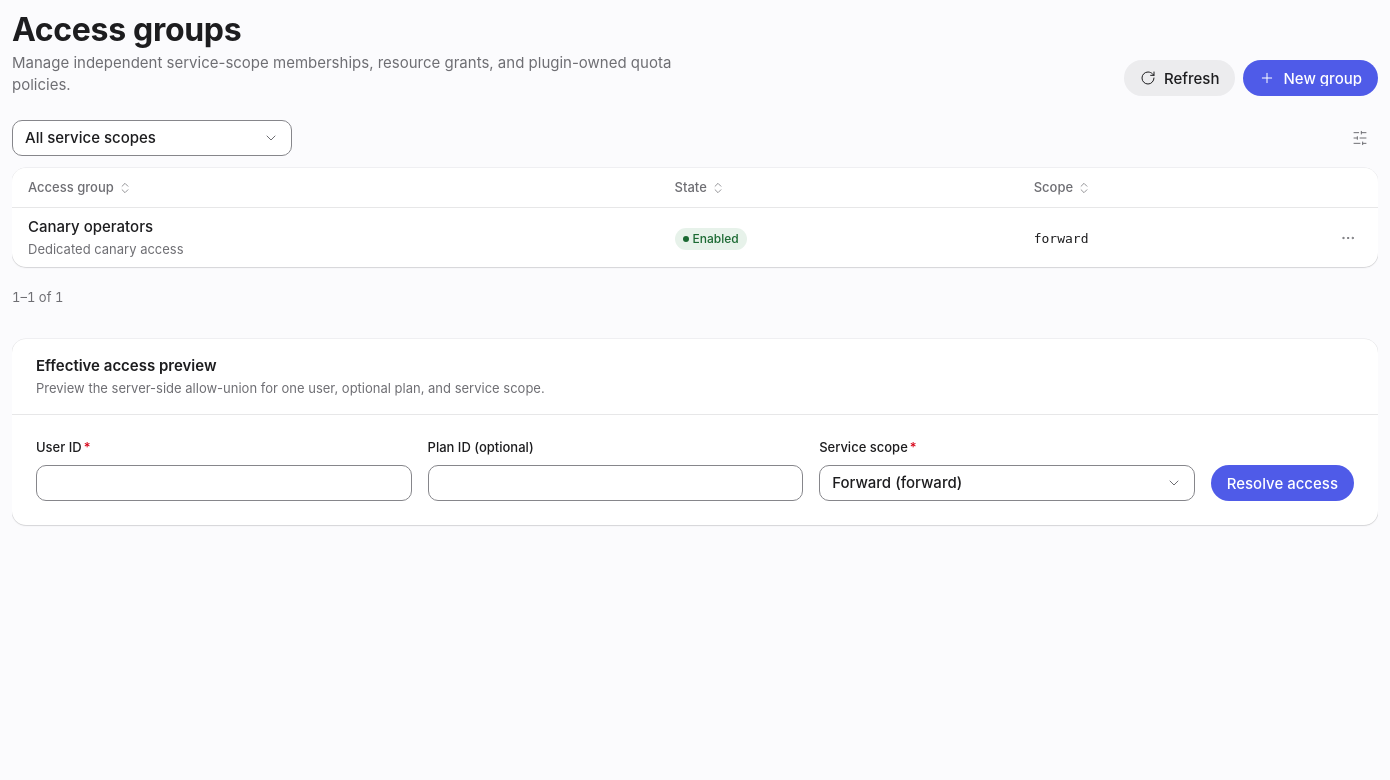
Test: AccessGroups.vue › uses the server-side allow-union resolver instead of recomputing permissions in the browser
Type "11" into the number field with id "access-resolve-user" at (224, 483), box [37,466,411,500]
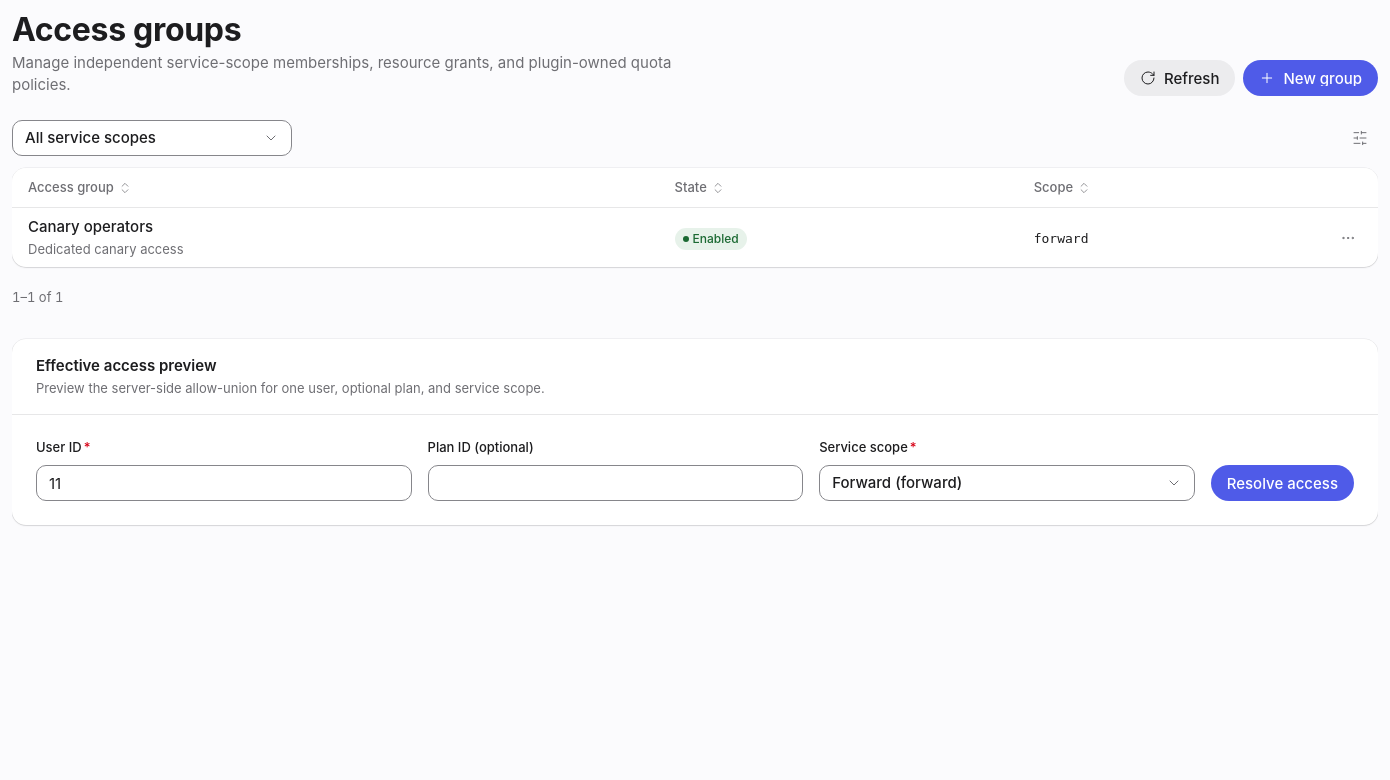
Type "4" into the number field with id "access-resolve-plan" at (615, 483), box [429,466,802,500]
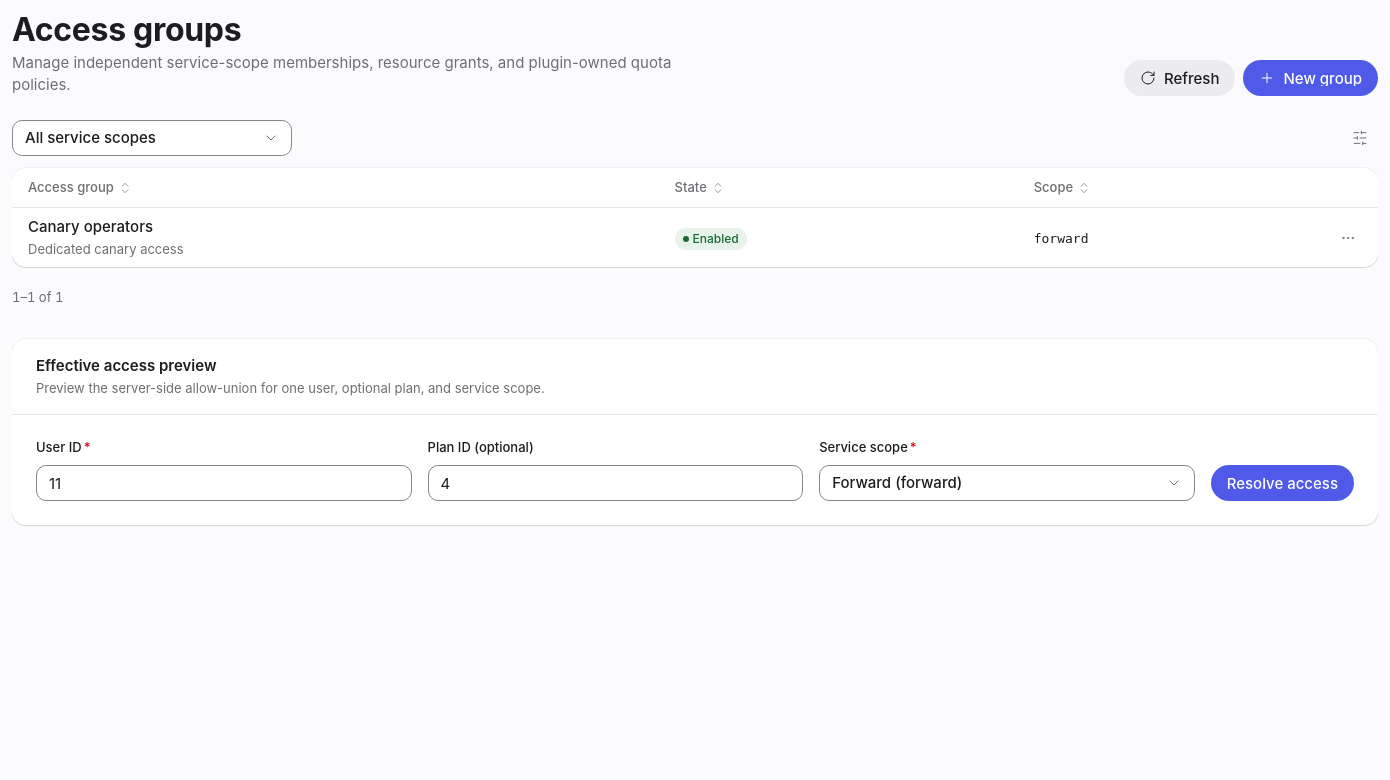
Check: the text "forward" is shown, box [1034,231,1088,246]
Submit the form, box [36,439,1354,501]
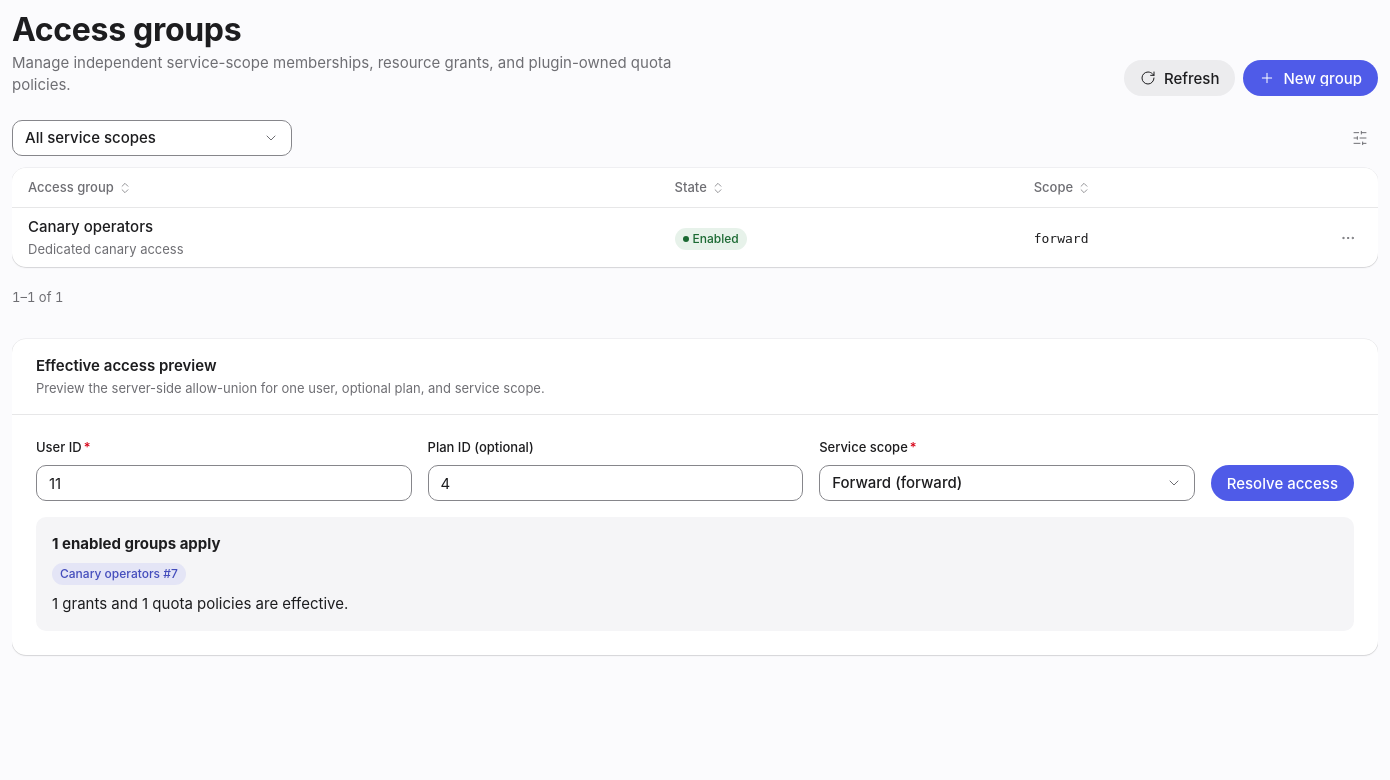
Check: the message with class "resolver-result" shows "Canary operators", box [60,566,178,581]
